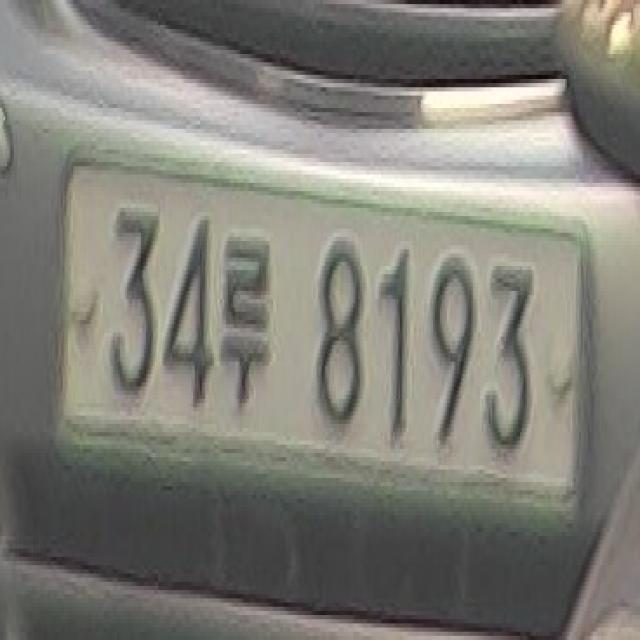1: (374, 237, 410, 445)
3: (482, 254, 536, 457), (113, 195, 160, 403)
4: (160, 208, 216, 407)
8: (313, 233, 369, 436)
9: (428, 245, 478, 445)
license_plate: (54, 142, 593, 544)
lu: (217, 228, 273, 416)
